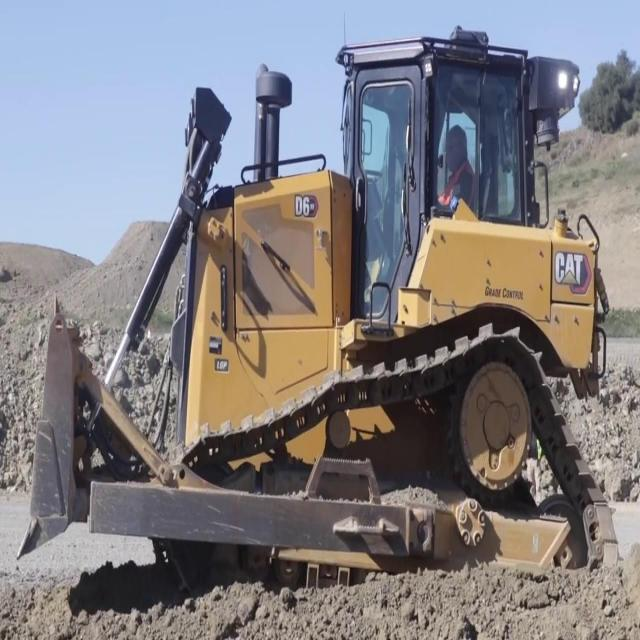Bulldozer: (25, 8, 622, 612)
